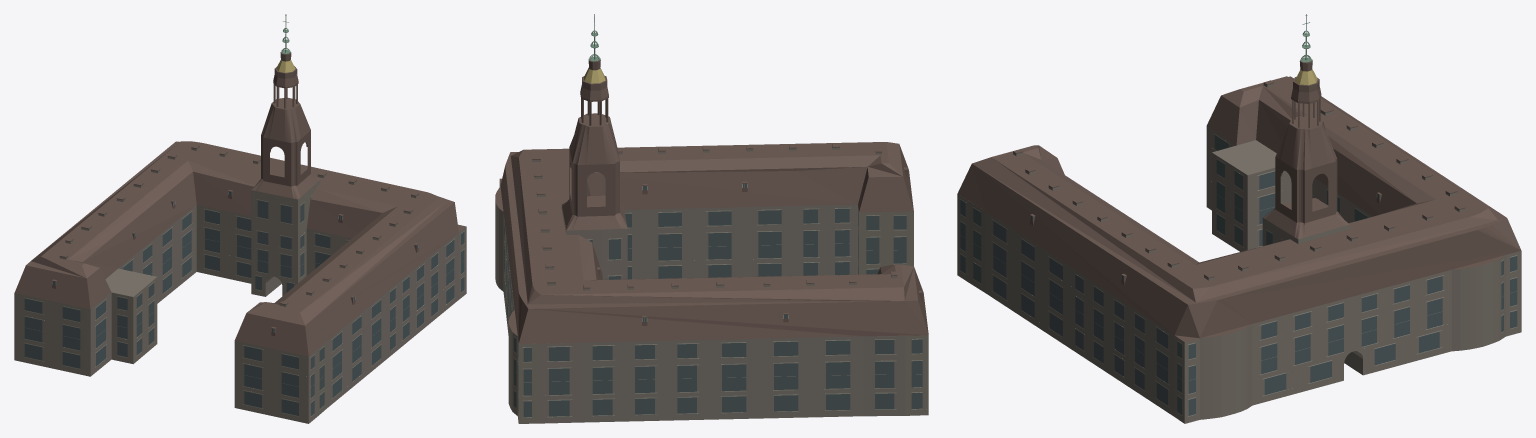
The model's file is christiansborg-palace-far.glb.
The picture shows the model from 3 angles, left to right: view 1: azimuth 30°, elevation 25°; view 2: azimuth 150°, elevation 25°; view 3: azimuth 270°, elevation 25°; orthographic projection. The views are drawn at different scales.
Parts seen in each view (by area): view 1: christiansborg-palace-0-copper, christiansborg-palace-0-stone, christiansborg-palace-0-glass, christiansborg-palace-0-frame; view 2: christiansborg-palace-0-copper, christiansborg-palace-0-stone, christiansborg-palace-0-glass, christiansborg-palace-0-frame; view 3: christiansborg-palace-0-copper, christiansborg-palace-0-stone, christiansborg-palace-0-glass, christiansborg-palace-0-frame.
Boxes of the visible parts, bbox=[...] form: christiansborg-palace-0-copper: bbox=[14, 52, 465, 356]; christiansborg-palace-0-stone: bbox=[14, 146, 466, 423]; christiansborg-palace-0-glass: bbox=[24, 191, 464, 415]; christiansborg-palace-0-frame: bbox=[24, 191, 464, 416]; christiansborg-palace-0-copper: bbox=[495, 58, 928, 343]; christiansborg-palace-0-stone: bbox=[495, 145, 928, 423]; christiansborg-palace-0-glass: bbox=[504, 183, 922, 417]; christiansborg-palace-0-frame: bbox=[504, 183, 922, 417]; christiansborg-palace-0-copper: bbox=[957, 59, 1521, 342]; christiansborg-palace-0-stone: bbox=[957, 83, 1521, 423]; christiansborg-palace-0-glass: bbox=[960, 135, 1517, 415]; christiansborg-palace-0-frame: bbox=[959, 133, 1517, 416].
Bounding box in the file's own units: 164 × 106 × 163.
